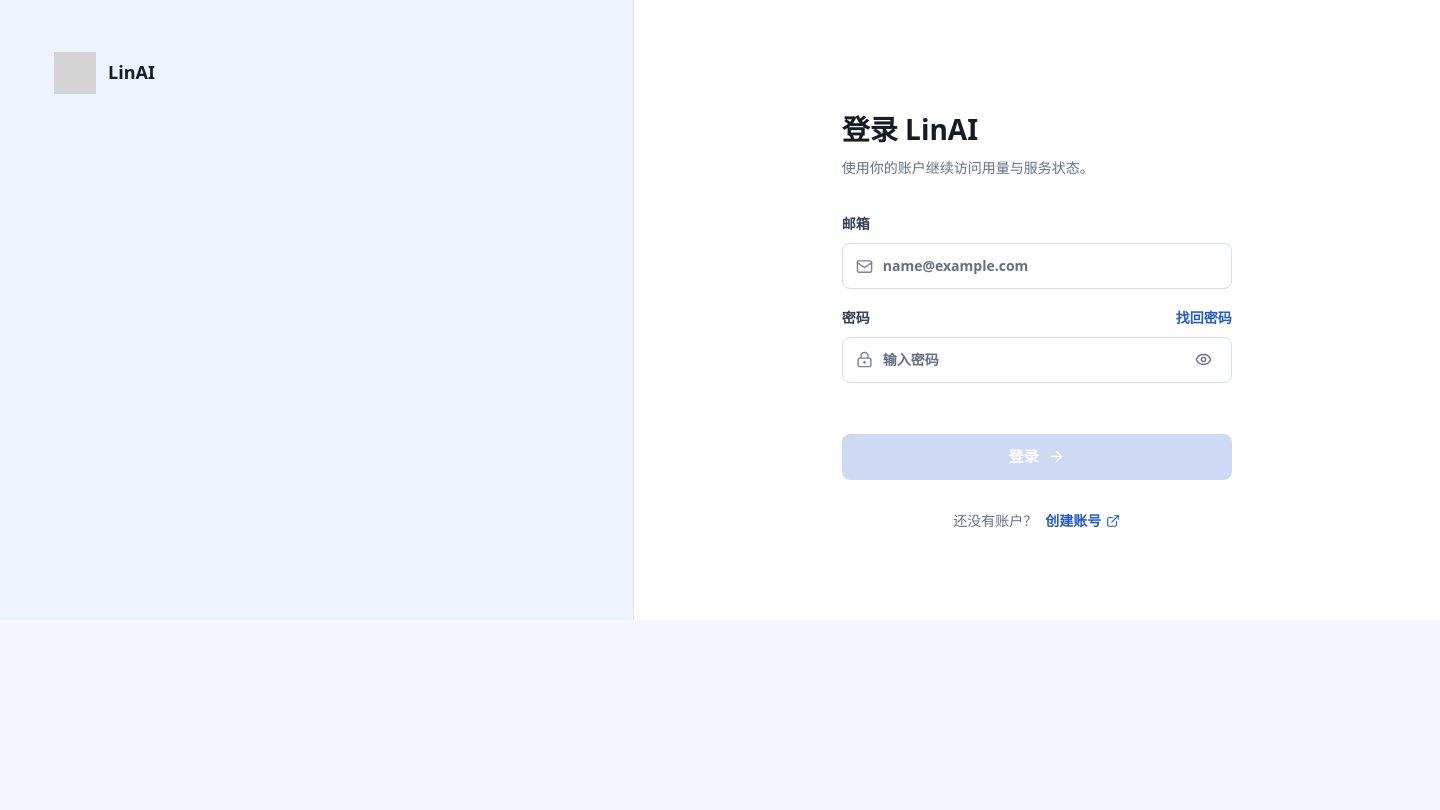
Test: LoginView › moves to the TOTP stage when the backend requires it
Type "lin@example.com" into the field with test id "email-input".
click(1050, 266); type("lin@example.com")  # box [883,255,1218,277]
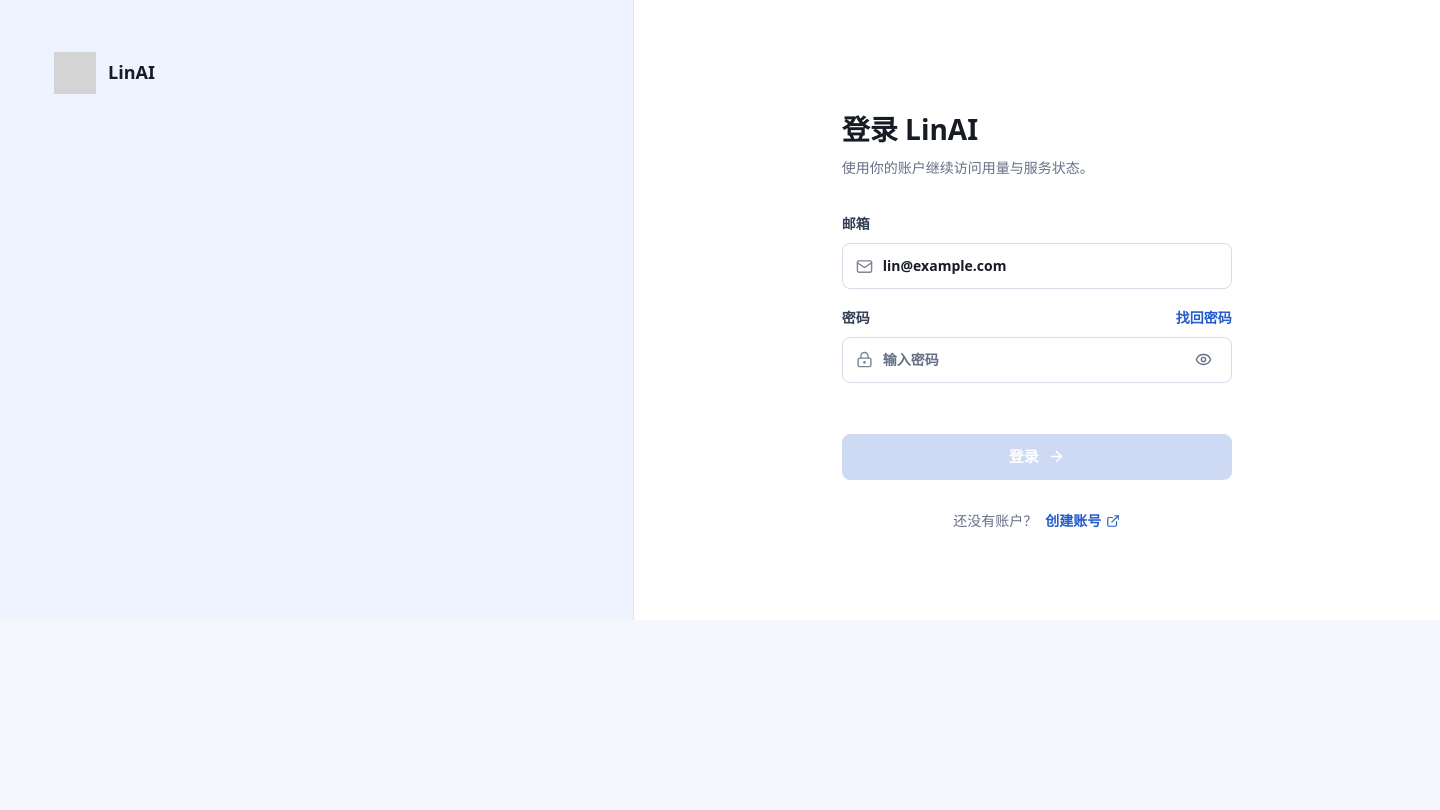
Type "secret" into the password field with test id "password-input".
click(1031, 360); type("secret")  # box [883,349,1180,370]
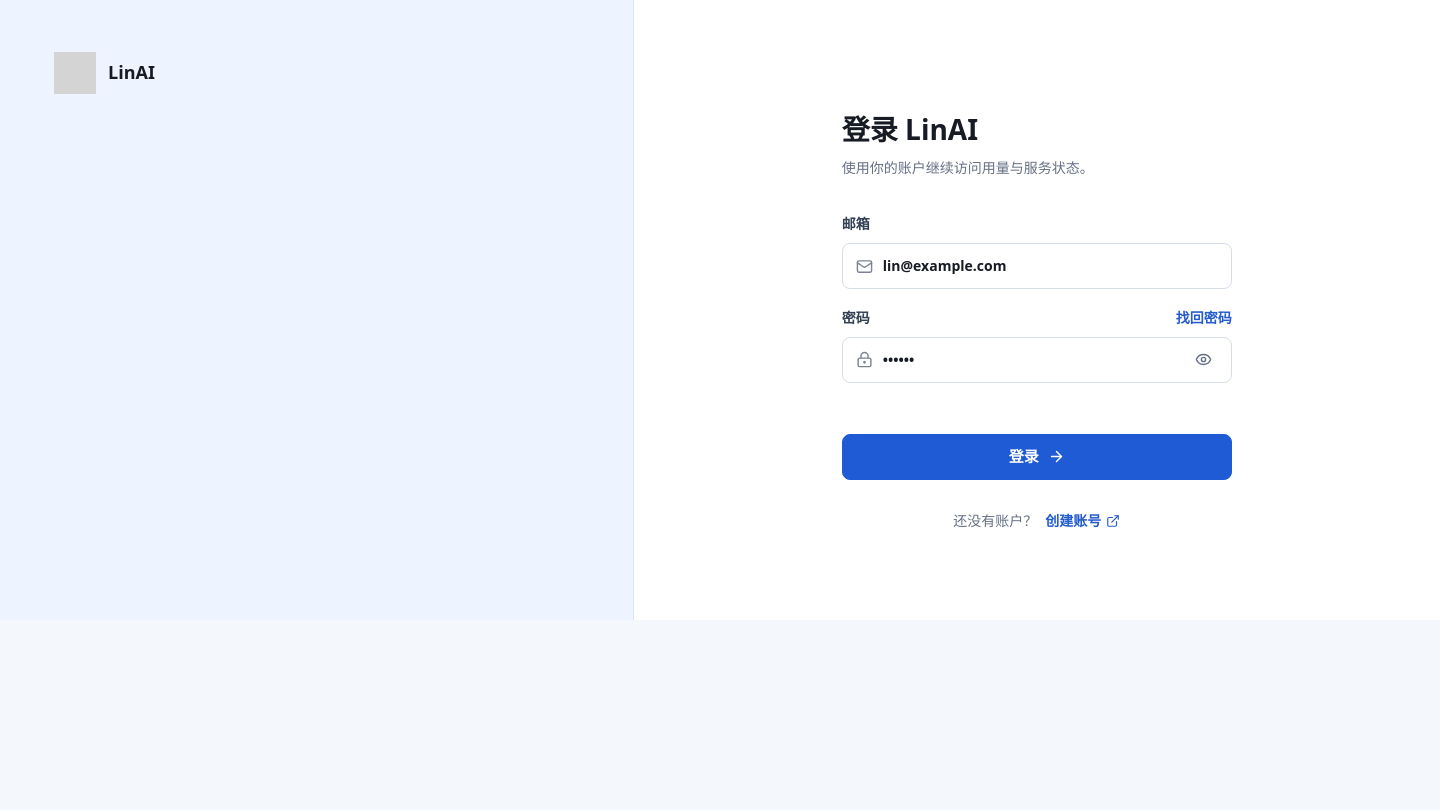
Submit the form, box [842,213,1232,480]
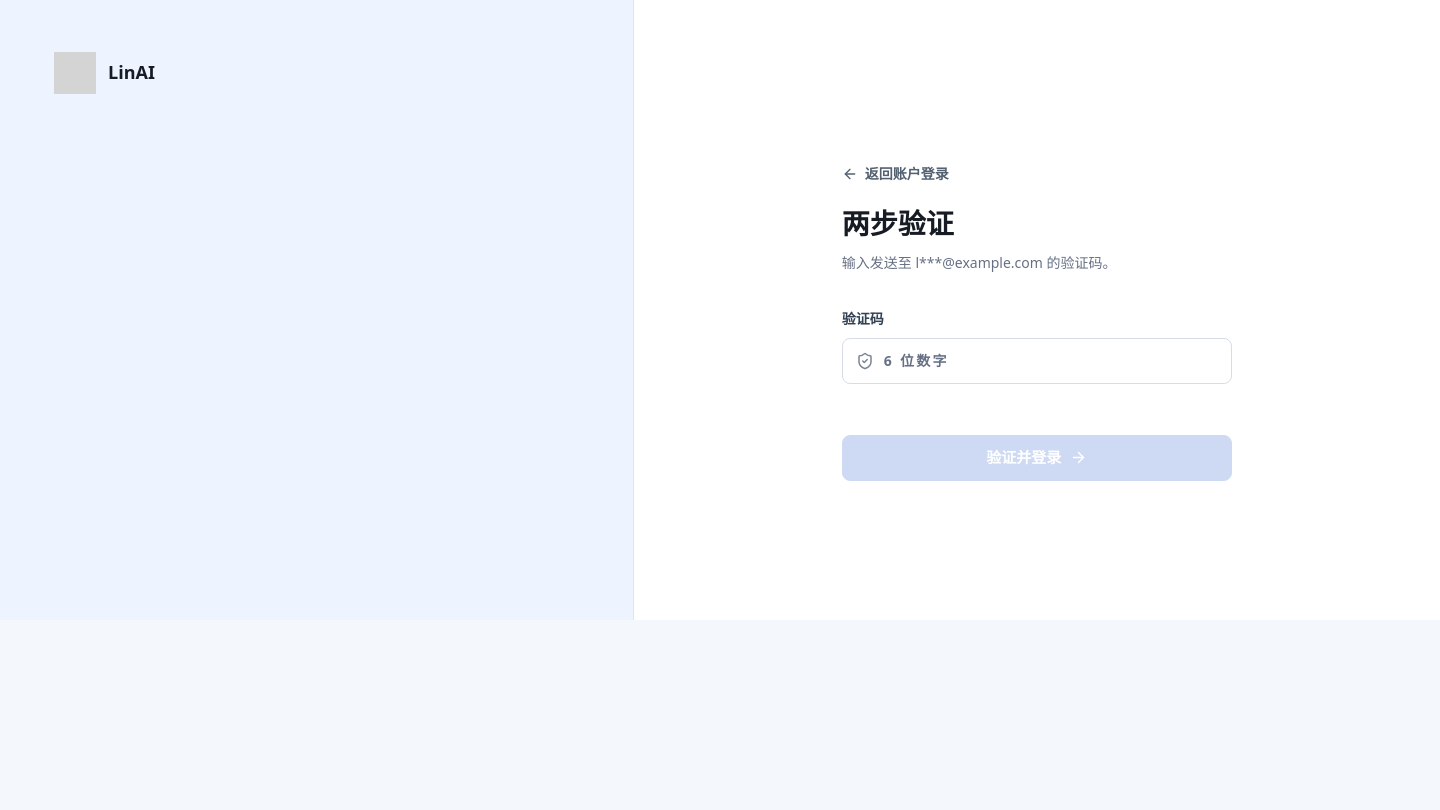
Now the field with test id "totp-input" is shown, box [884,350,1218,371]
Now the text "l***@example.com" is shown, box [842,253,1117,272]
